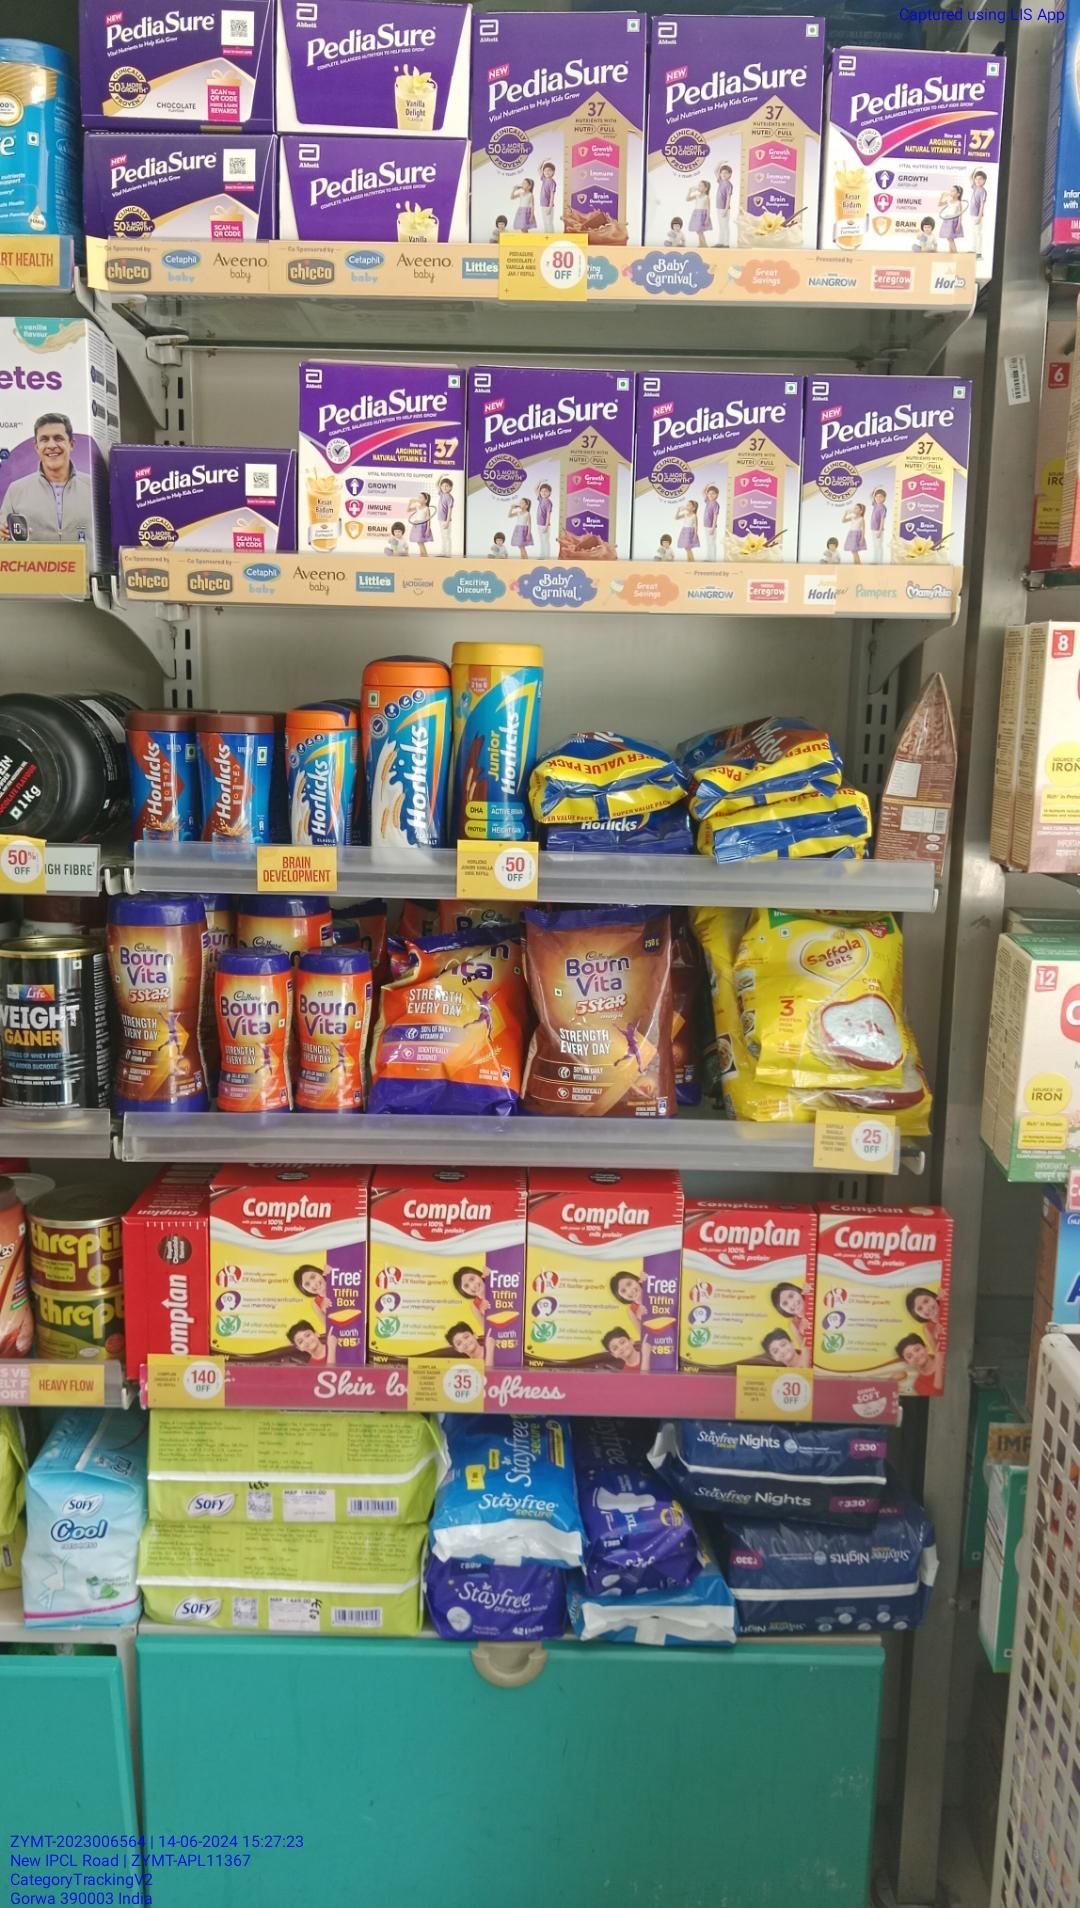BOURN_VITA_200_G_JAR: (215, 950, 290, 1111), (296, 950, 366, 1113)
BOURN_VITA_FIVE_STAR_MAGIC_500_G_JAR: (113, 898, 206, 1114)
BOURN_VITA_FIVE_STAR_MAGIC_750_G_POUCH: (524, 907, 674, 1114)
COMPLAN_CHOCOLATE_200_GMS_PACK: (211, 1185, 364, 1365), (526, 1190, 678, 1372), (370, 1186, 520, 1364), (682, 1207, 813, 1368)
COMPLAN_CREAMY_CLASSIC_500_G_PACK: (818, 1212, 953, 1379)
HORLICK_CHOCOLATE_200_G_JAR: (195, 713, 275, 844), (123, 708, 190, 843)
HORLICK_CLASSIC_MALT_200_G_JAR: (283, 705, 355, 845)
HORLICK_CLASSIC_MALT_500_G_JAR: (359, 658, 452, 850)
PEDIASURE_CHOCOLATE_500_G_PACK: (472, 13, 642, 244)
PEDIASURE_VANILLA_500_G_PACK: (649, 12, 823, 248), (826, 45, 996, 261), (803, 370, 969, 562), (634, 368, 797, 561)
